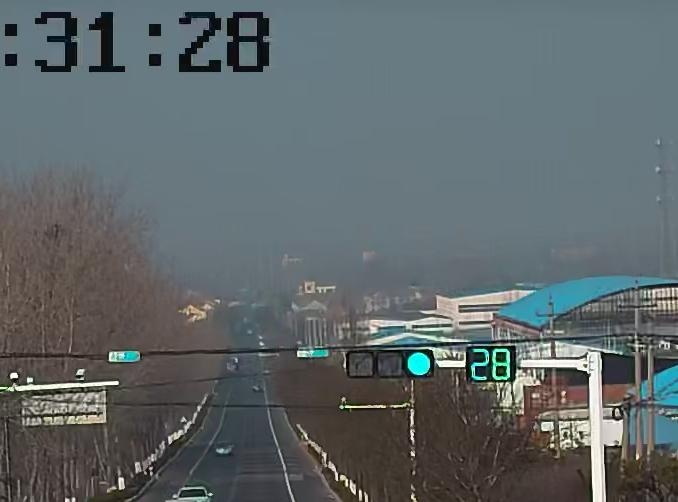green: (404, 350, 433, 379)
greentime: (467, 348, 517, 383)
